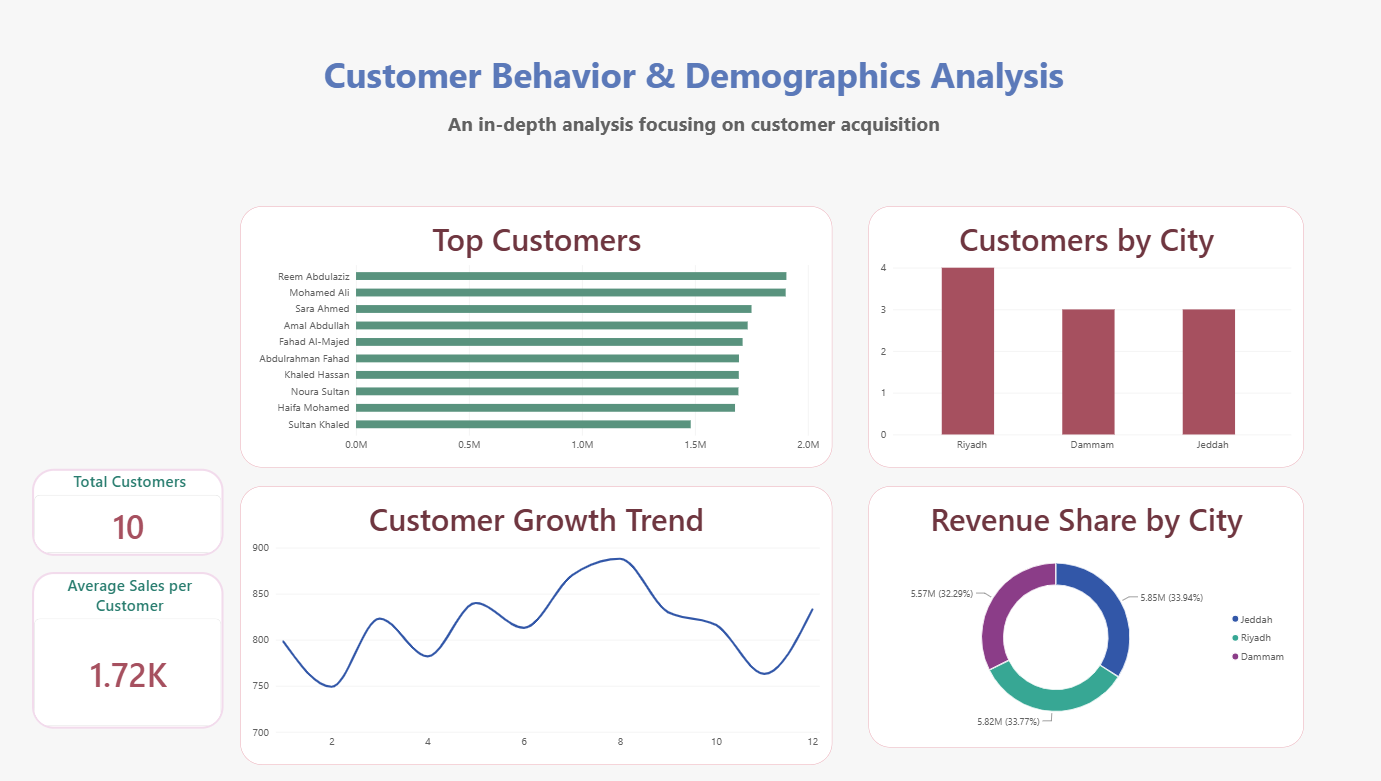

Layout of this report page (visuals, bound fields, positions):
{"tool":"powerbi","page":{"name":"Customer Analysis","canvas":[1920,1080],"ordinal":1},"visuals":[{"type":"cardVisual","title":"Total Customers","fields":{"Data":["DimCustomer.Total Customers"]},"box":[48,648,264,120],"z":0},{"type":"cardVisual","title":"Average Sales per Customer","fields":{"Data":["FactSales.Average Order Value"]},"box":[48,792,264,216],"z":2000},{"type":"clusteredBarChart","title":"Top Customers","fields":{"Category":["DimCustomer.CustomerName"],"Y":["FactSales.Total Sales"]},"box":[336,288,816,360],"z":5000},{"type":"lineChart","title":"Customer Growth Trend","fields":{"Category":["DimDate.Month"],"Y":["FactSales.Total Orders"]},"box":[336,672,816,384],"z":6000},{"type":"donutChart","title":"Revenue Share by City","fields":{"Category":["DimStore.City"],"Y":["FactSales.Total Sales"]},"box":[1200,672,600,360],"z":7000},{"type":"clusteredColumnChart","title":"Customers by City","fields":{"Category":["DimCustomer.City"],"Y":["DimCustomer.Total Customers"]},"box":[1200,288,600,360],"z":9000},{"type":"textbox","box":[96,72,1728,144],"z":10000}]}

Visuals, with their boxes in screenshot pixels (x1, y1, x2, y2), scaled from the page's 1920x1080 canvas onto the 1381x781 screenshot:
"Total Customers" cardVisual: l=35, t=469, r=224, b=555
"Average Sales per Customer" cardVisual: l=35, t=573, r=224, b=729
"Top Customers" clusteredBarChart: l=242, t=208, r=829, b=469
"Customer Growth Trend" lineChart: l=242, t=486, r=829, b=764
"Revenue Share by City" donutChart: l=863, t=486, r=1295, b=746
"Customers by City" clusteredColumnChart: l=863, t=208, r=1295, b=469
textbox: l=69, t=52, r=1312, b=156
